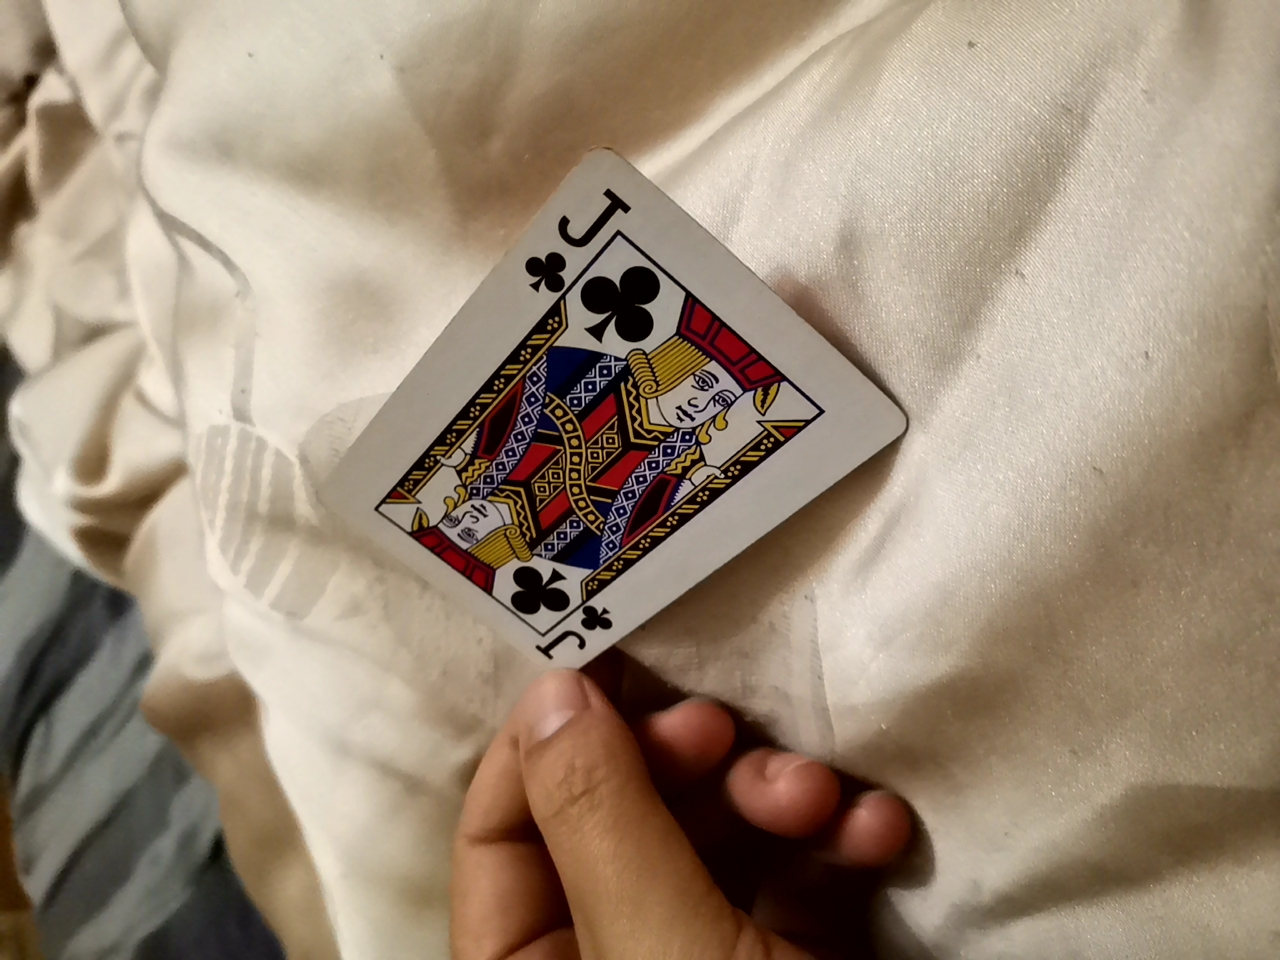mh j: (347, 177, 873, 721)
